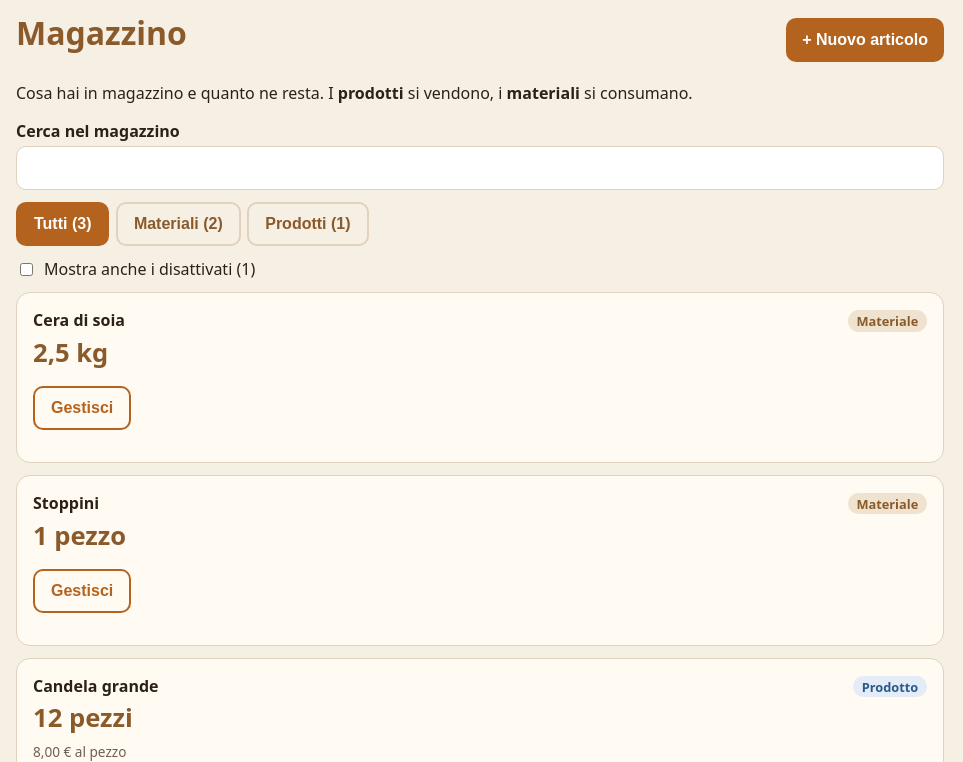
Scenario: nuovo articolo › giacenza iniziale non valida (mezzi pezzi): errore e nessun salvataggio
The width and height of the screenshot is (963, 762).
Click the button "+ Nuovo articolo": (865, 40) [786,18,944,62]
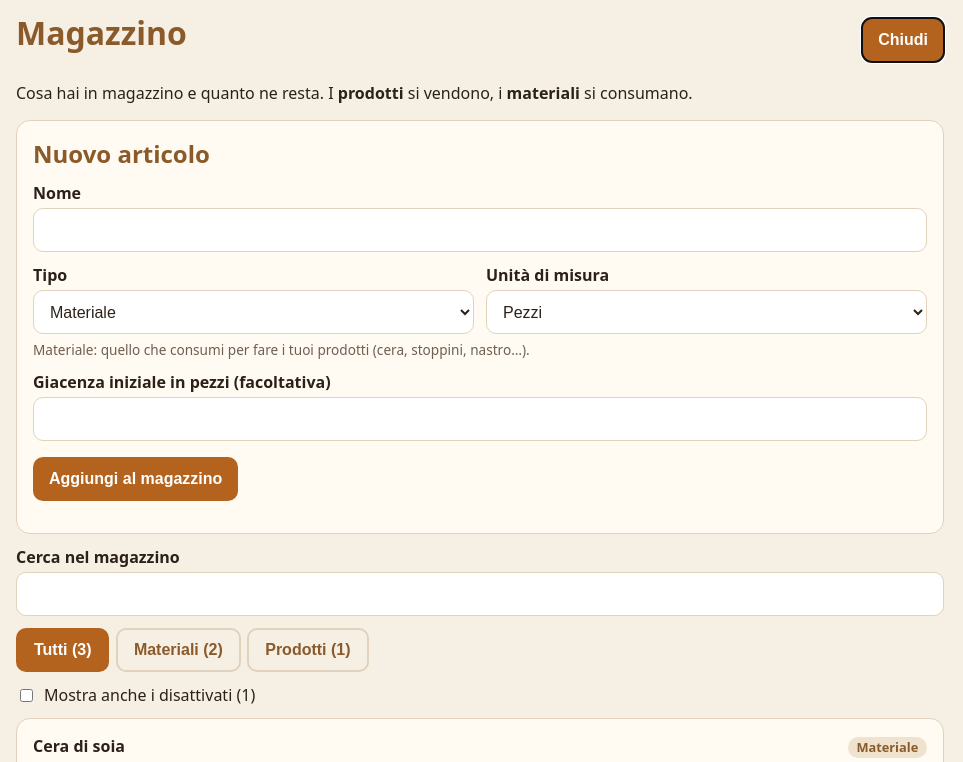
In the field labelled "Nome": (480, 230) [33,208,927,252], type "Stoppini"
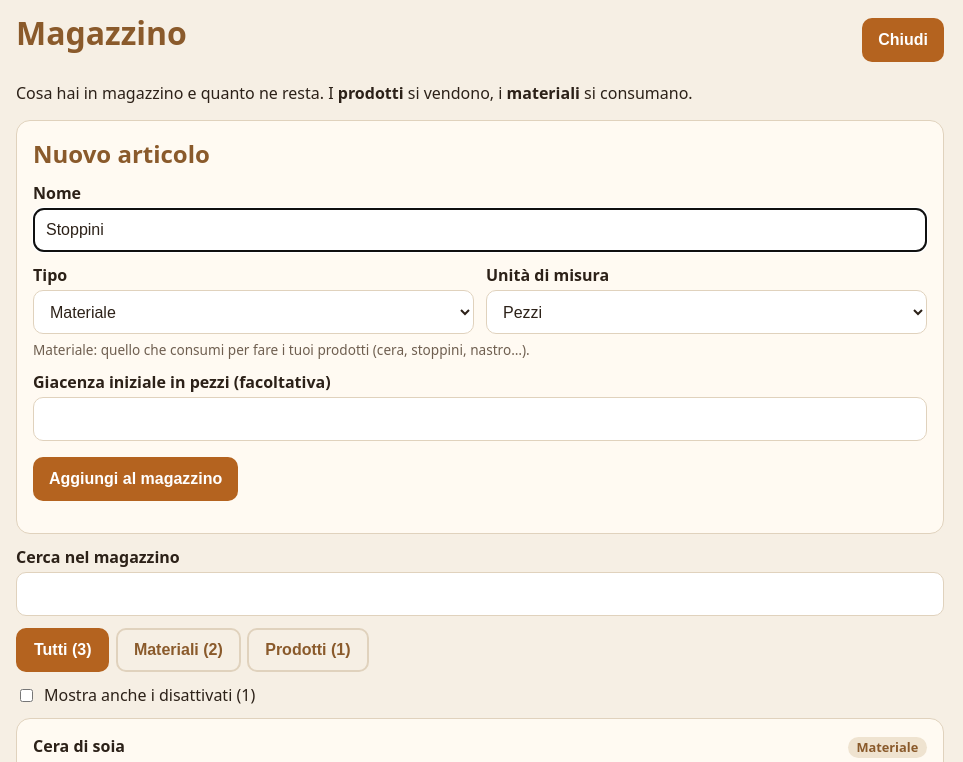
In the field labelled "Giacenza iniziale in pezzi (facoltativa)": (480, 419) [33,397,927,441], type "2,5"
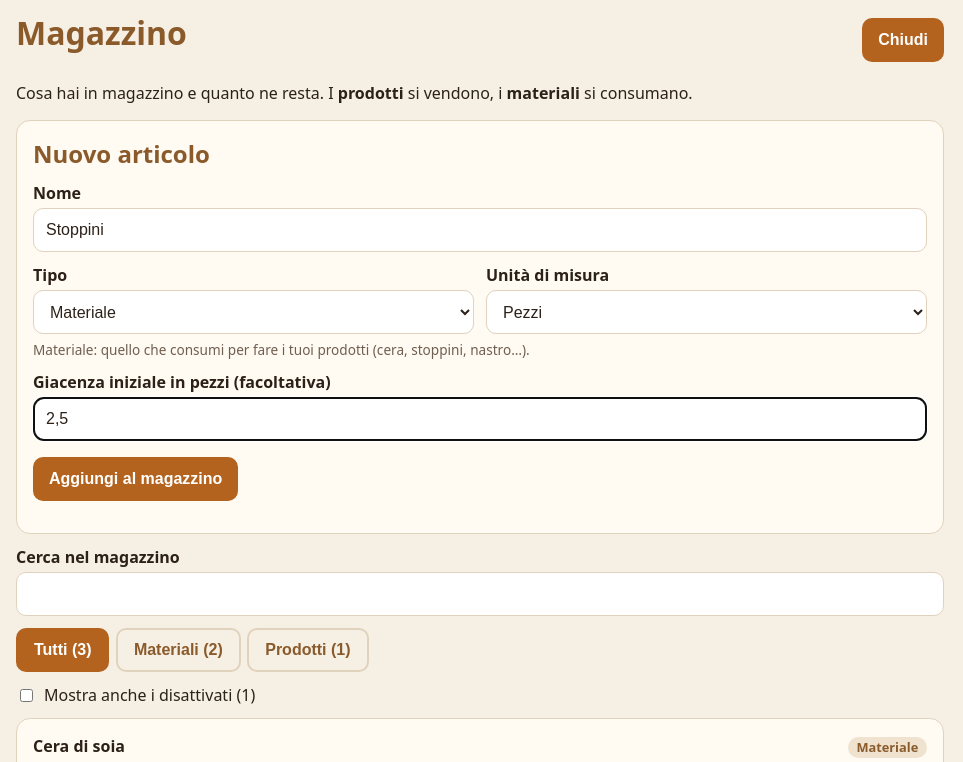
Click the button "Aggiungi al magazzino": (136, 479) [33,457,238,501]
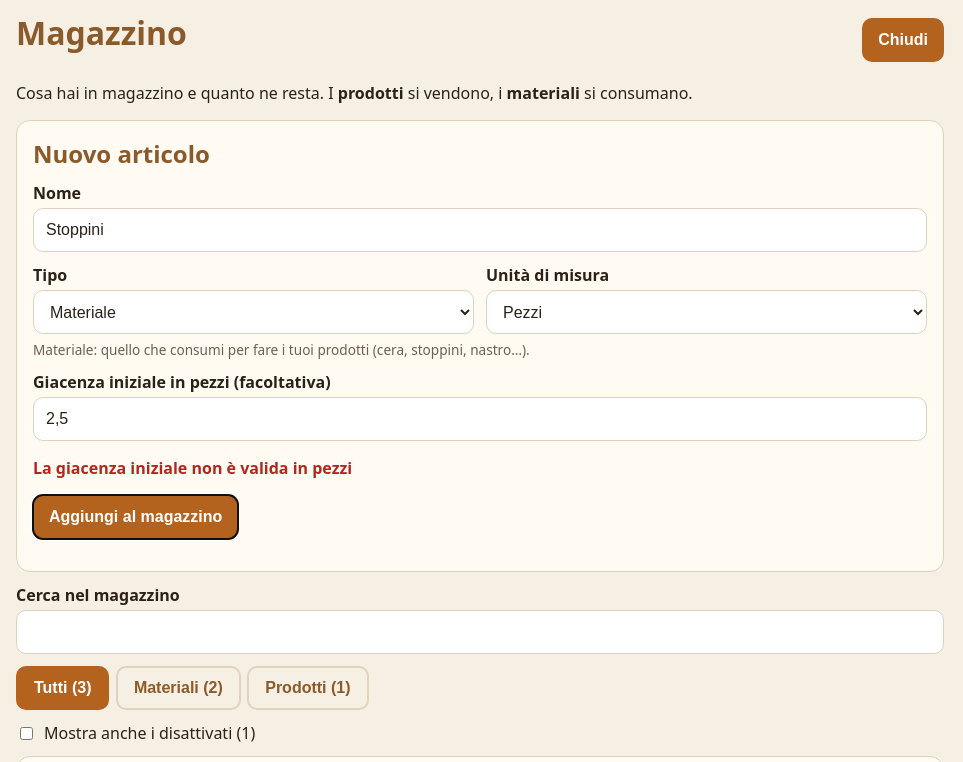
Expected: the text "La giacenza iniziale non è valida in pezzi" is shown, [33,457,352,479]
